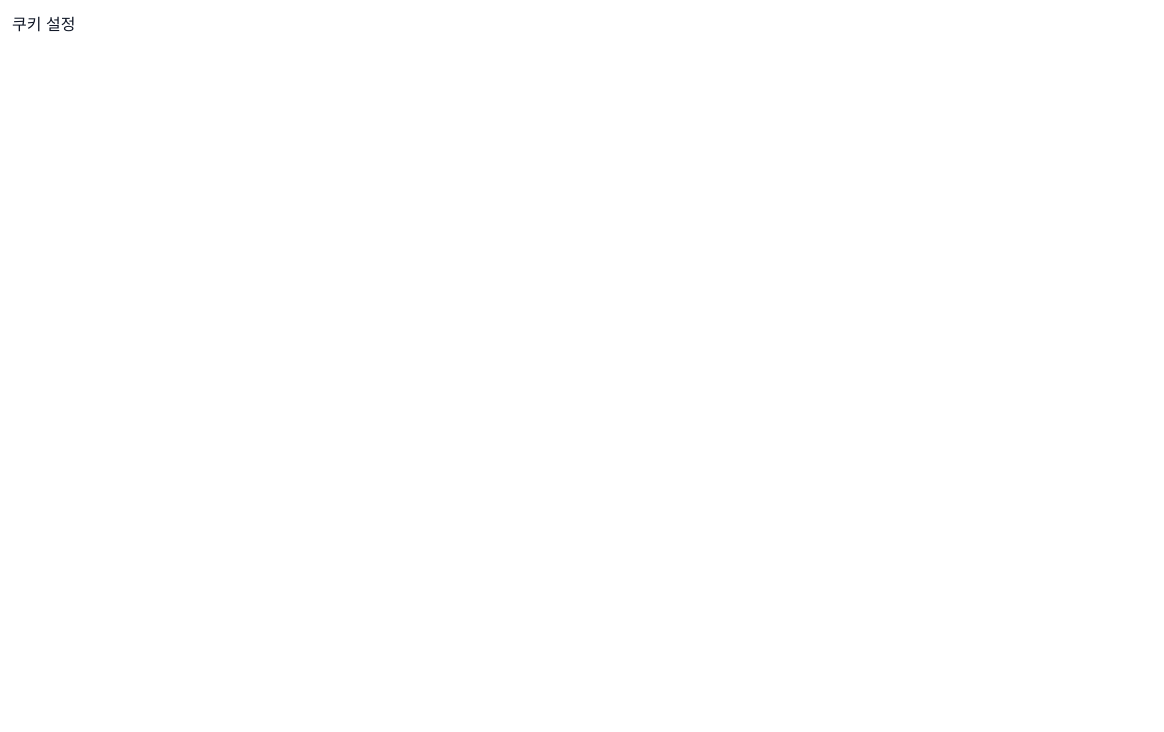
CookieConsentBanner › 푸터 쿠키 설정으로 다시 열어 동의를 철회할 수 있다 (현재 상태 표시 · Esc 닫기)
Click the button "쿠키 설정" at (44, 24), box [12,12,75,36]
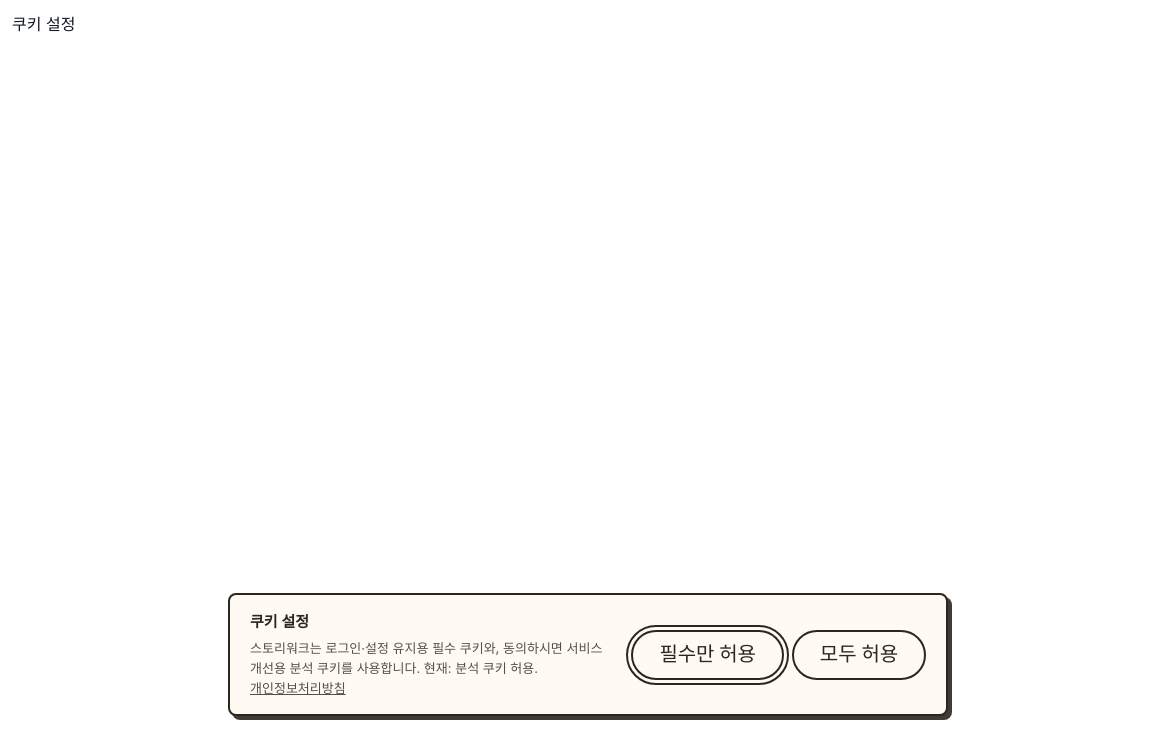
Expected: the text with test id "cookie-consent-current" shows "허용", [510,660,534,676]
Click the button "필수만 허용" at (708, 654), box [631,630,784,680]
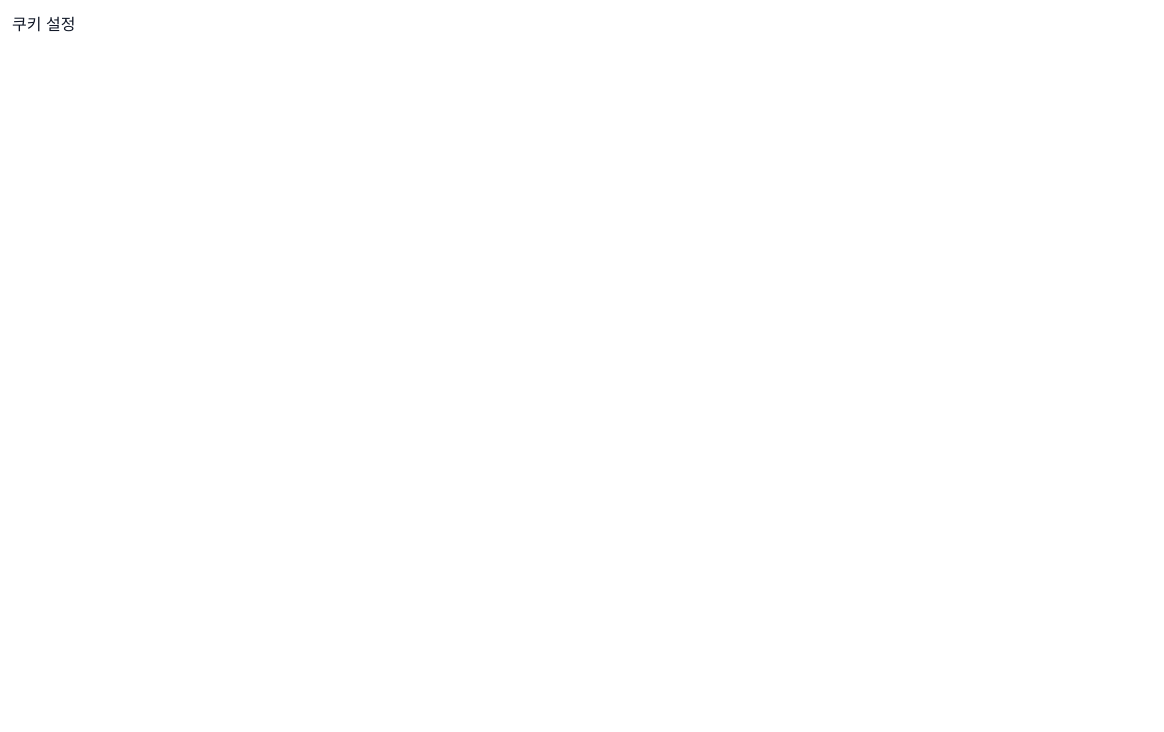
Click the button "쿠키 설정" at (44, 24), box [12,12,75,36]
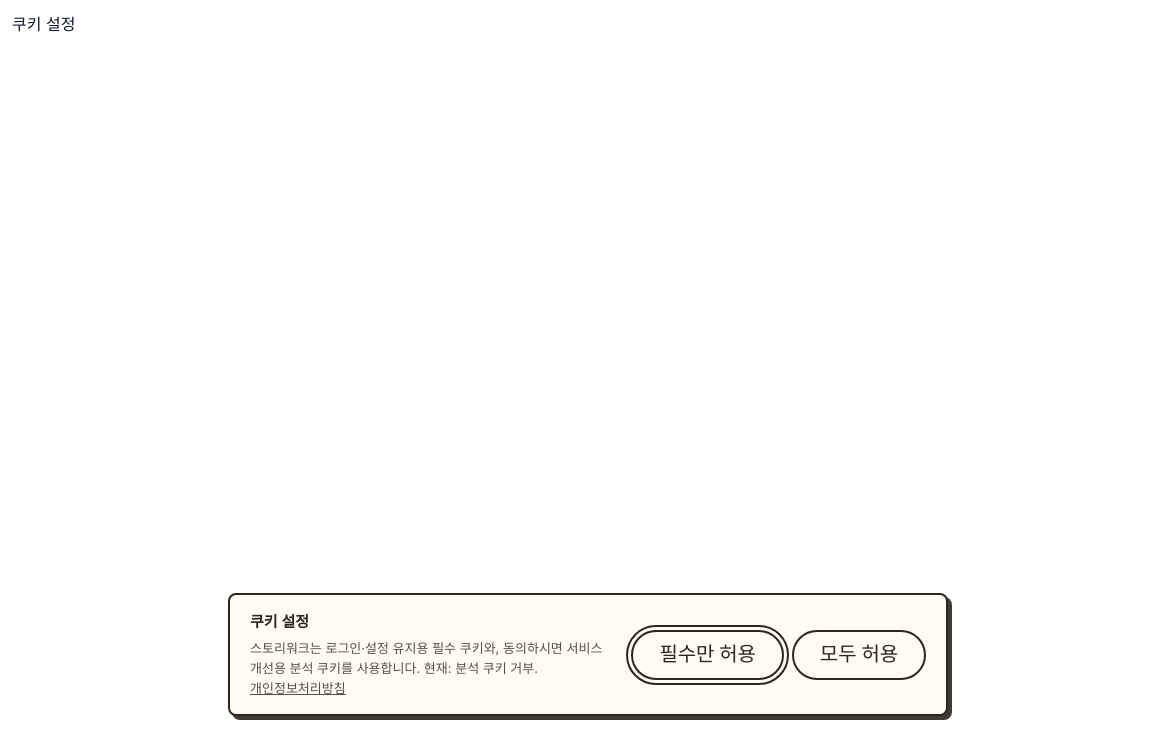
Press Escape
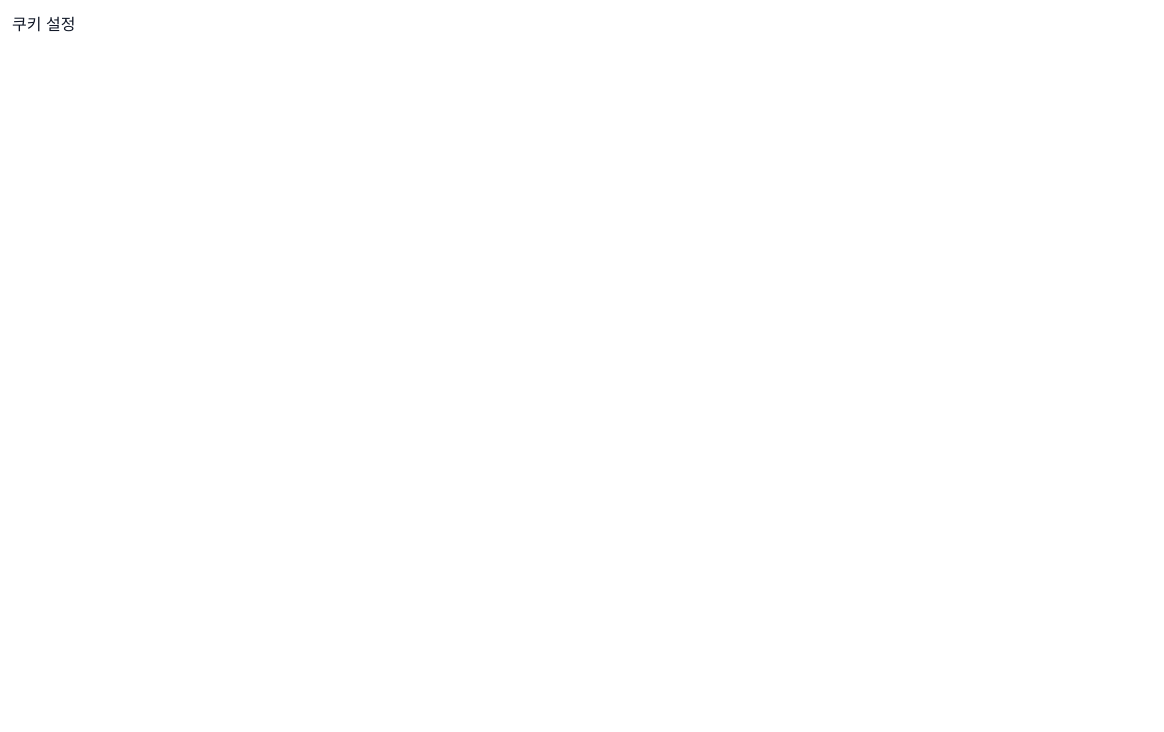
Expected: the element with test id "cookie-consent-banner" is gone
